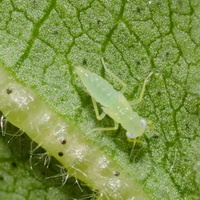insect: (76, 67, 145, 137)
